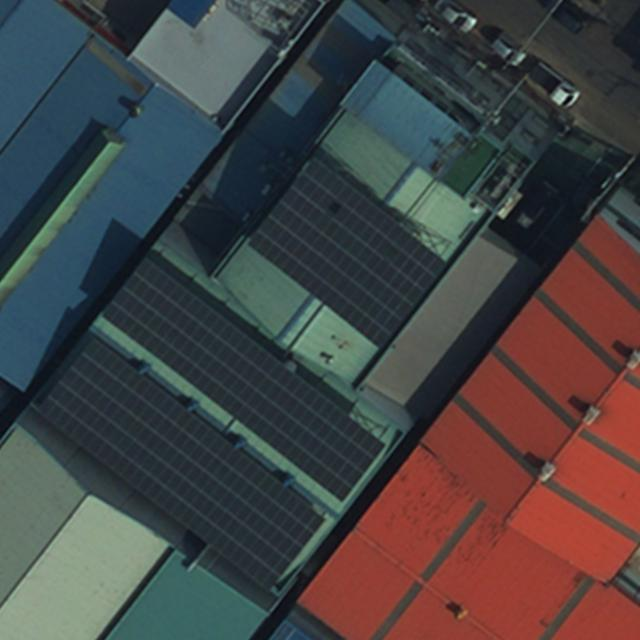solarpanel: (36, 337, 329, 598), (100, 254, 390, 504), (247, 151, 451, 352)
